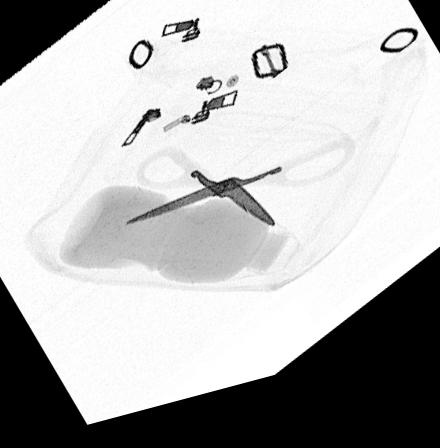Scissors: (124, 154, 357, 241)
